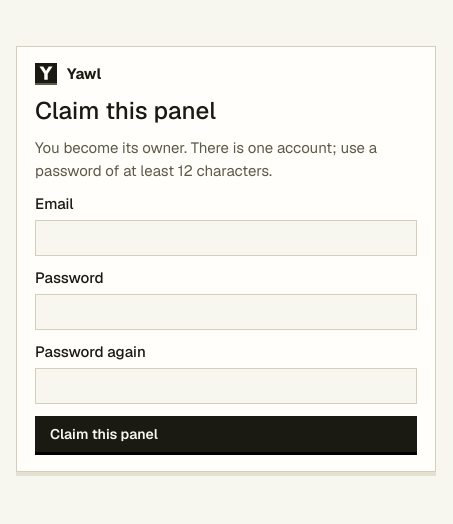
Test case: Claim › refuses a mismatched confirmation without a request
Step 1. Type "me@acme.uz" into the field labelled "Email" → {"x": 226, "y": 238}, box 35,220 -> 417,256
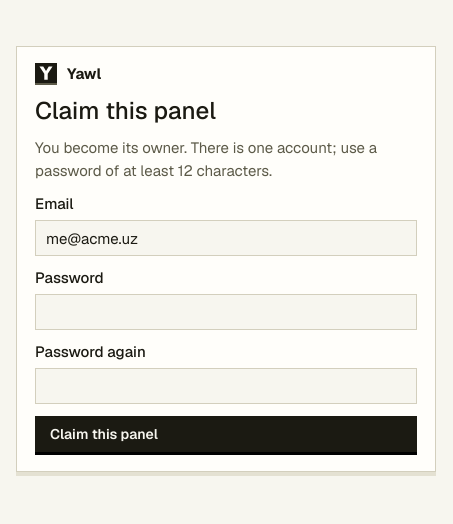
Step 2. Type "correct horse battery" into the password field labelled "Password" → {"x": 226, "y": 312}, box 35,294 -> 417,330
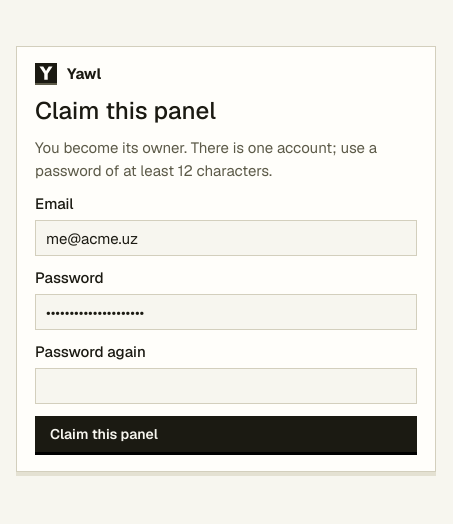
Step 3. Type "correct horse batter" into the password field labelled "Password again" → {"x": 226, "y": 386}, box 35,368 -> 417,404
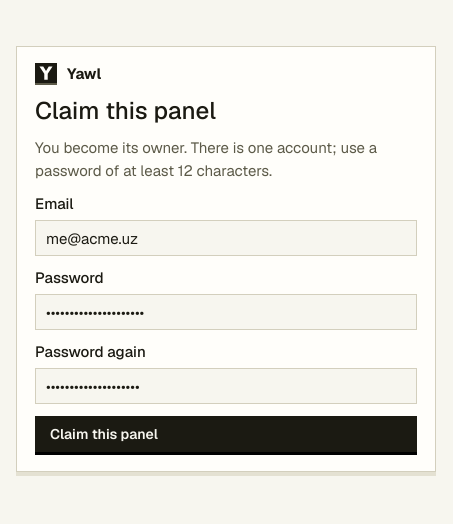
Step 4. Click the button "Claim this panel" → {"x": 104, "y": 434}, box 35,416 -> 417,452
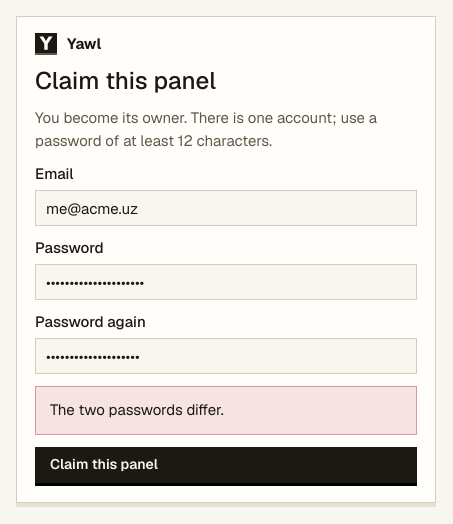
expect the text "The two passwords differ." is shown: met, box 50,400 -> 224,419
